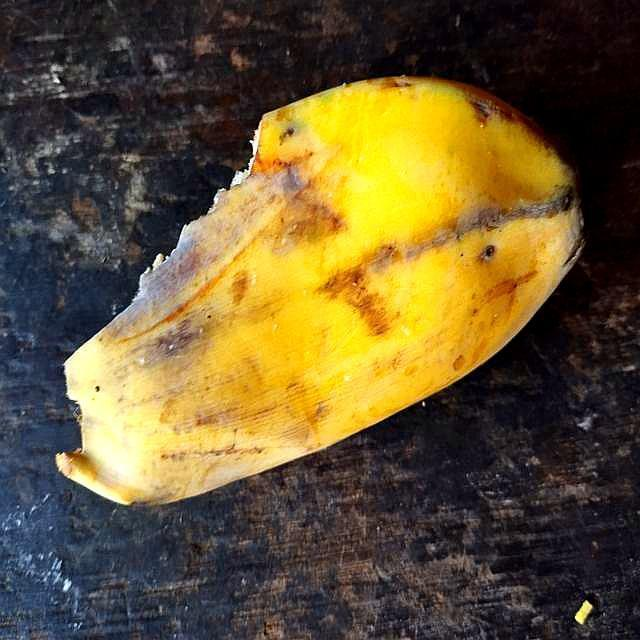Biodegradable: (67, 71, 567, 505)
